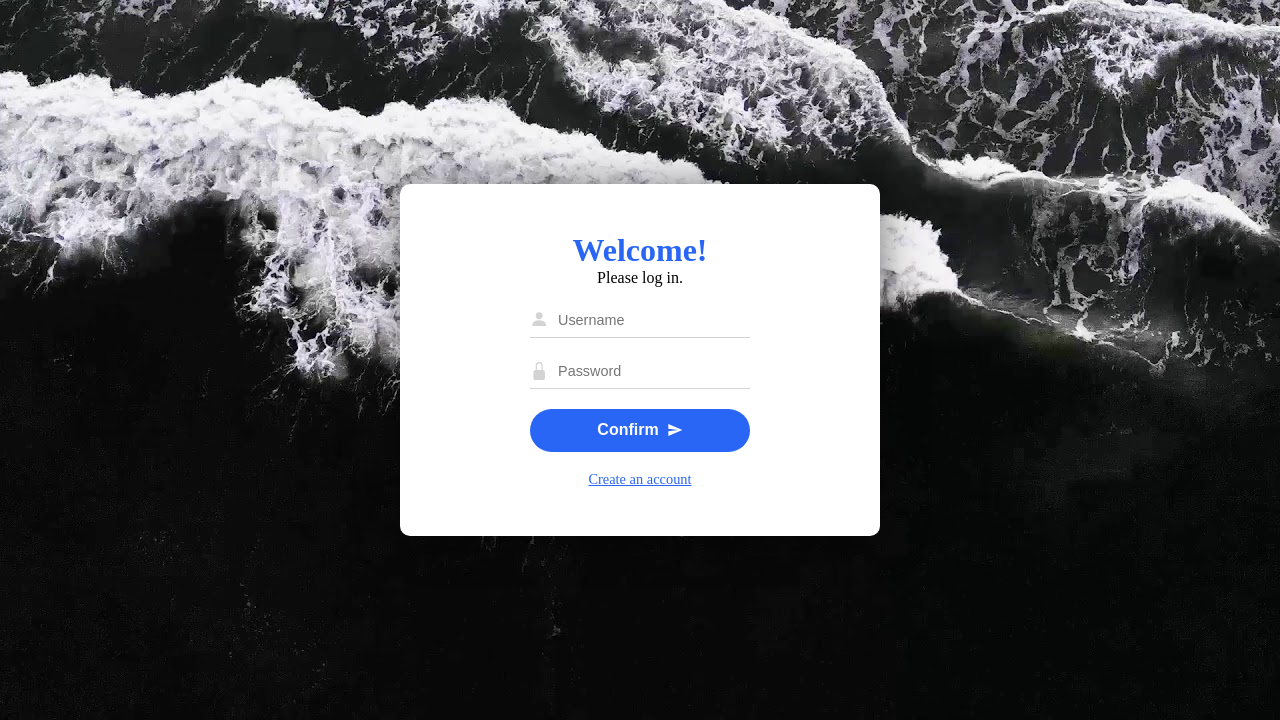
Scenario: LoginView › should correctly render username not found error
Type "Anything" into the field with test id "login-input". click: (651,320)
box: left=552, top=306, right=750, bottom=333
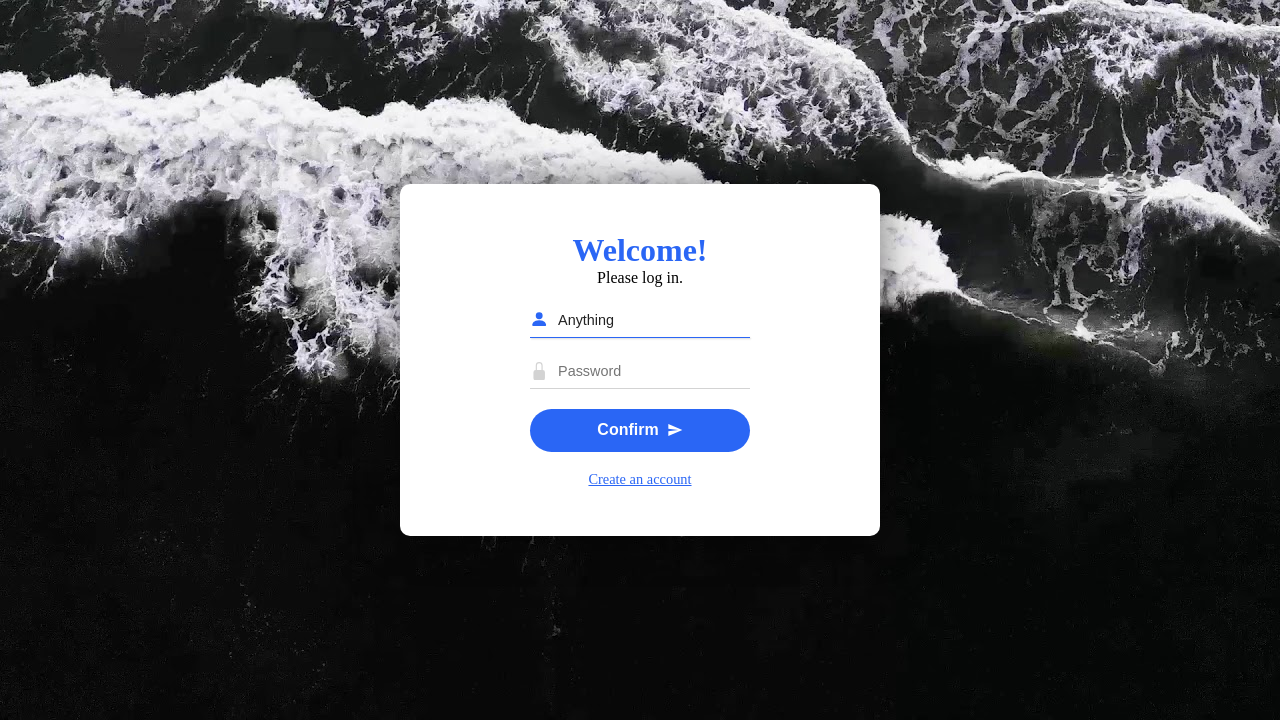
Type "Anything" into the password field with test id "password-input". click: (651,371)
box: left=552, top=357, right=750, bottom=385
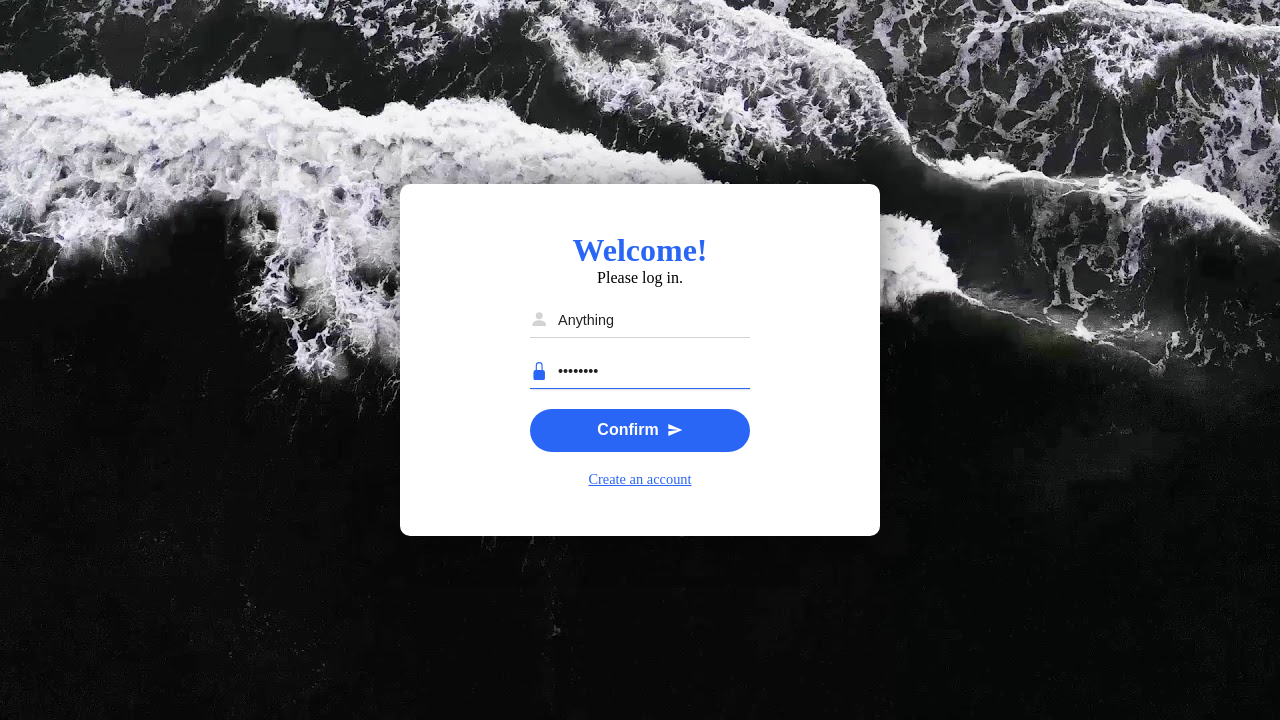
Click the button with test id "confirm-button". click: (640,430)
box: left=530, top=409, right=750, bottom=452
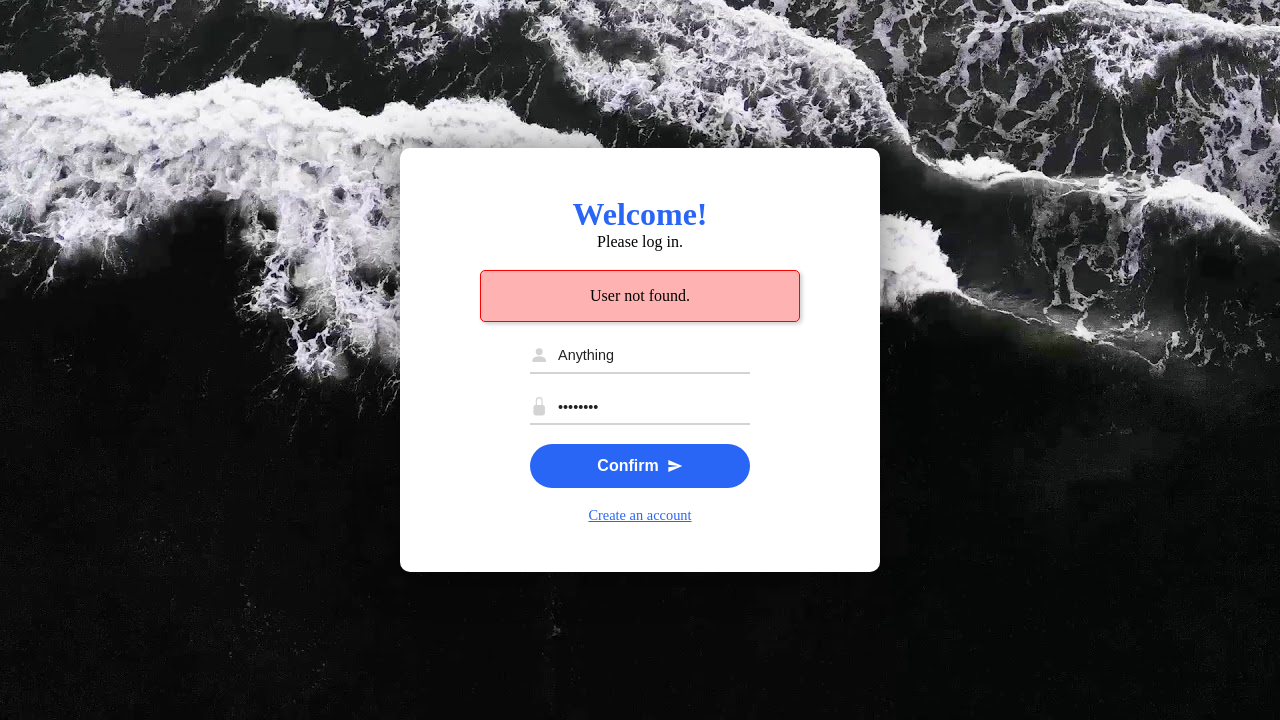
Expected: the text "User not found." is shown, left=480, top=270, right=800, bottom=322
